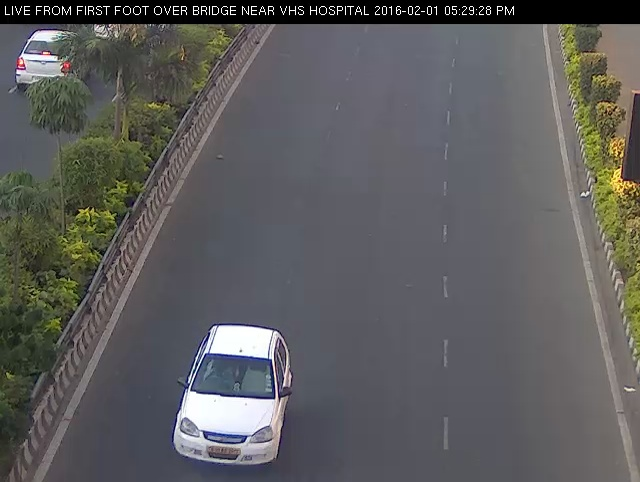Car: (159, 318, 313, 474)
